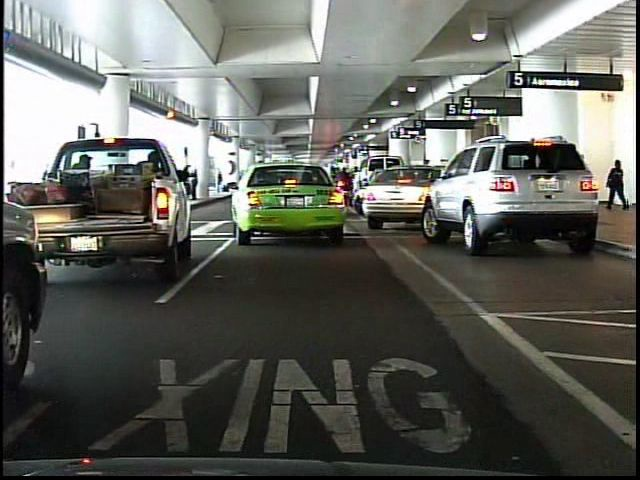person: (606, 160, 631, 217)
